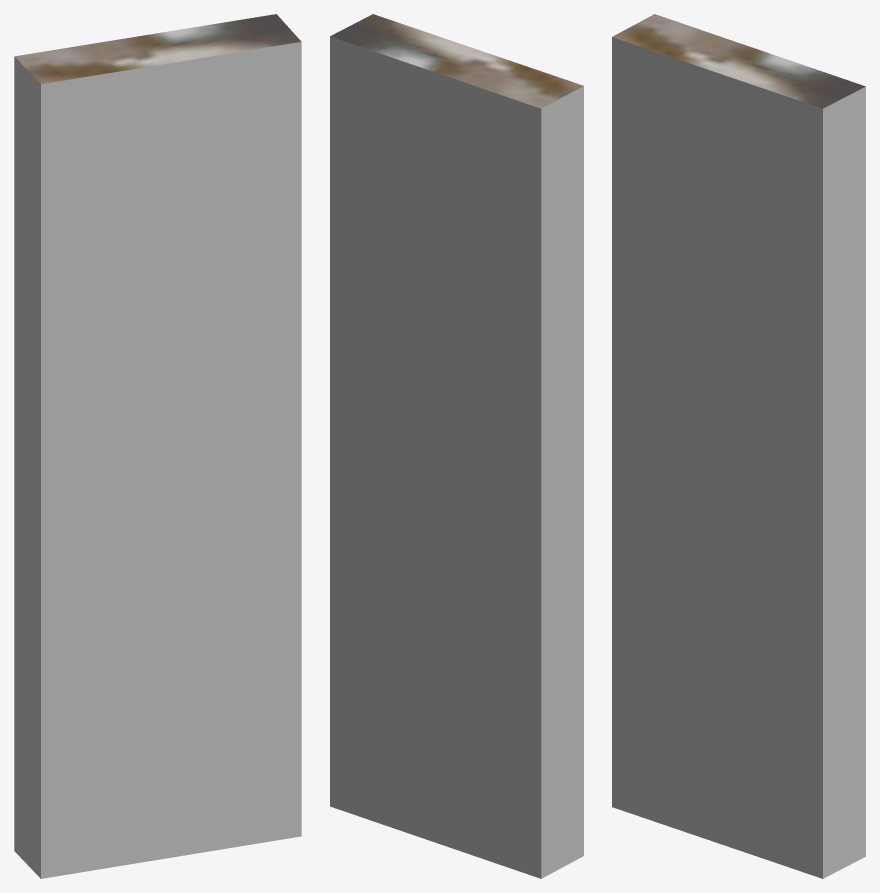
The model's file is DEBW_0010007THY5.gltf.
3 views of the same model, side by side, from view 1: azimuth 30°, elevation 25°; view 2: azimuth 150°, elevation 25°; view 3: azimuth 330°, elevation 25° (orthographic). The views are drawn at different scales.
Visible parts, largest first — view 1: Z_UP; view 2: Z_UP; view 3: Z_UP.
Boxes of the visible parts, box(x1,y1,x2,y2) form: Z_UP: box(14, 14, 301, 878); Z_UP: box(330, 14, 583, 878); Z_UP: box(612, 14, 865, 878).
Size of the model in its own units: 5.13 by 15.65 by 2.03.
Materials: 2 (1 with a texture image).
